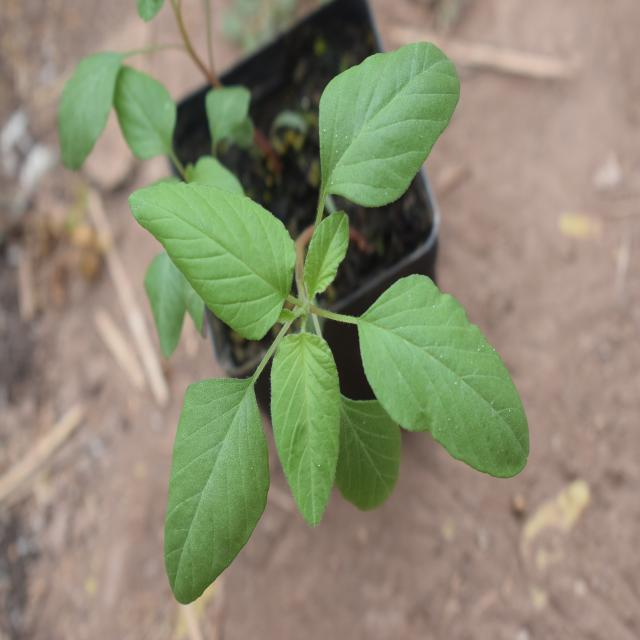pigweed: (128, 67, 531, 584)
